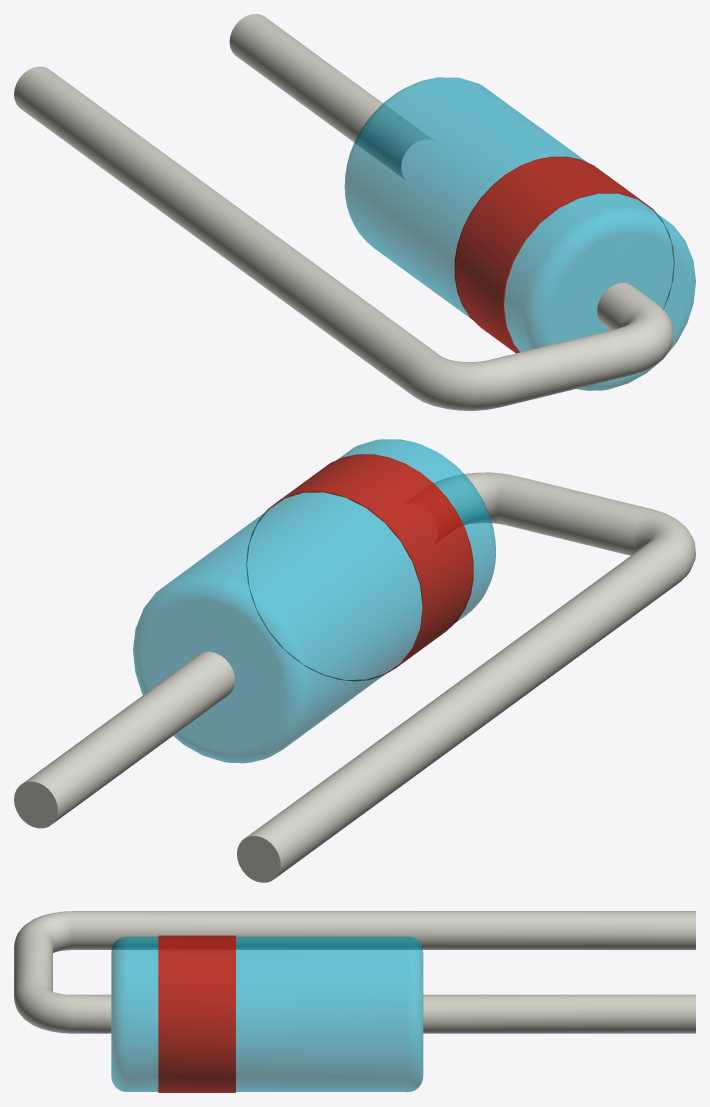
File: d-do-35-sod27-p2.54-v-kathodeup.glb
3 renders of one model, top to bottom at view 1: azimuth 30°, elevation 25°; view 2: azimuth 150°, elevation 25°; view 3: azimuth 270°, elevation 25°, orthographic. The views are drawn at different scales.
Parts seen in each view (by area): view 1: PIN-01, GLASS-13, LED-RED; view 2: GLASS-13, PIN-01, LED-RED; view 3: PIN-01, GLASS-13, LED-RED.
Part boxes in pixels (<box>): PIN-01: <box>14,14,673,410</box>; GLASS-13: <box>344,77,695,390</box>; LED-RED: <box>454,156,674,353</box>; GLASS-13: <box>133,439,495,763</box>; PIN-01: <box>14,472,695,882</box>; LED-RED: <box>246,454,473,680</box>; PIN-01: <box>14,911,695,1033</box>; GLASS-13: <box>111,936,423,1091</box>; LED-RED: <box>158,935,235,1092</box>.
Size of the model in its own units: 3.8 by 2.02 by 8.75.
